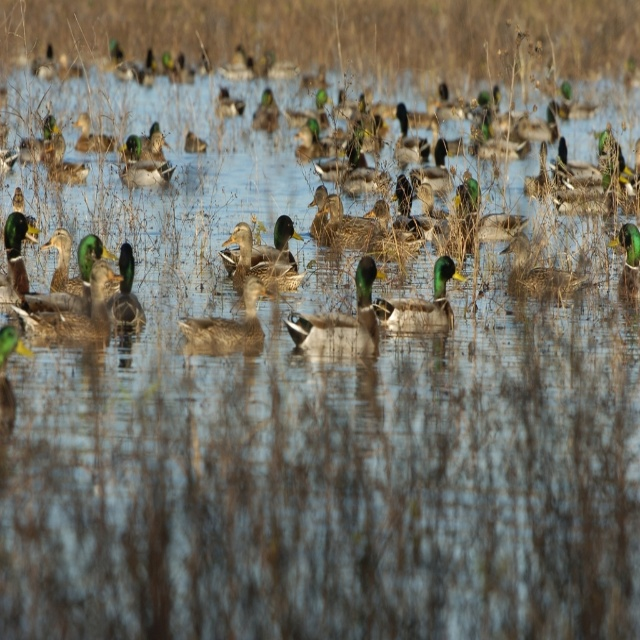Duck: (281, 253, 385, 351), (174, 274, 269, 368), (370, 256, 465, 333), (229, 210, 306, 297), (42, 228, 91, 321), (452, 177, 524, 239), (319, 190, 385, 253), (106, 242, 151, 332), (0, 210, 38, 301), (390, 104, 430, 175), (308, 179, 339, 257), (123, 135, 172, 181), (609, 221, 640, 268)
